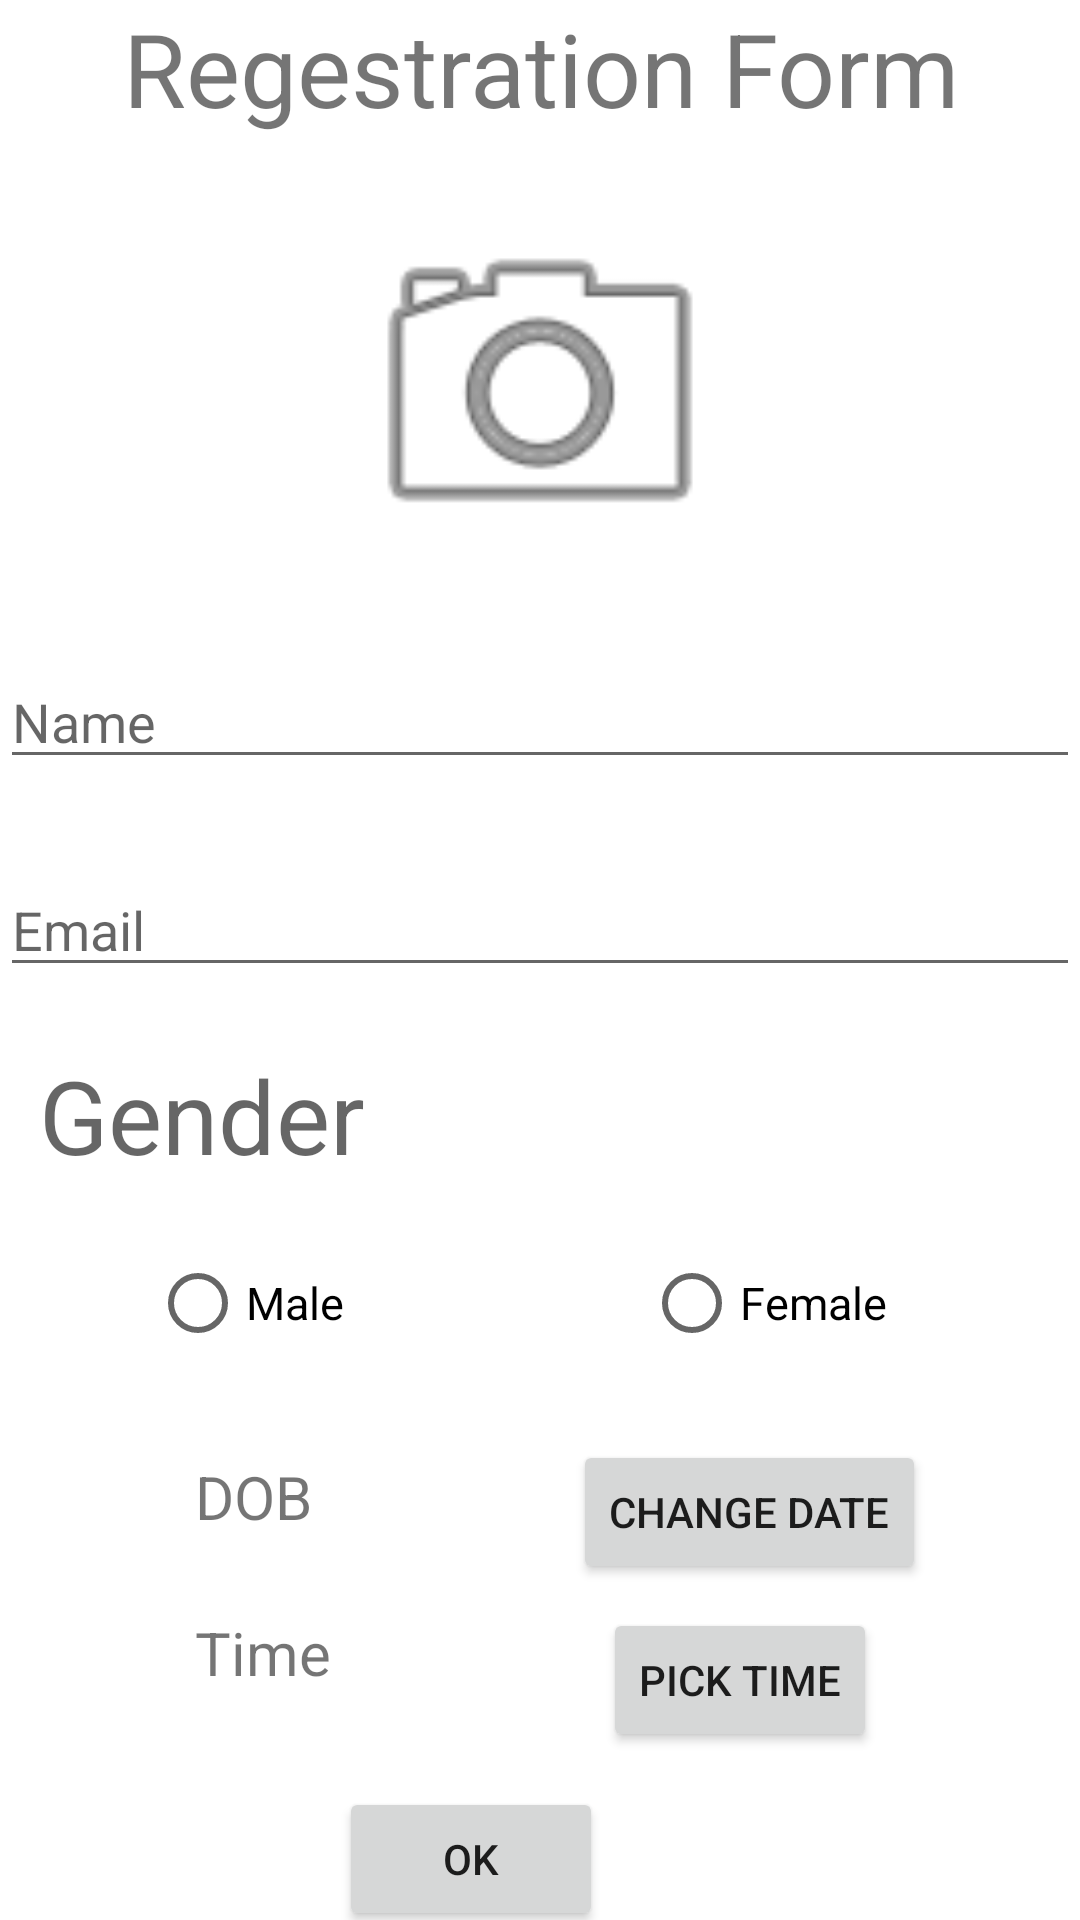

Where icons sit on this 1080x1920 app screen, as (x1, y1, x2, y2):
camera: (388, 259, 692, 502)
